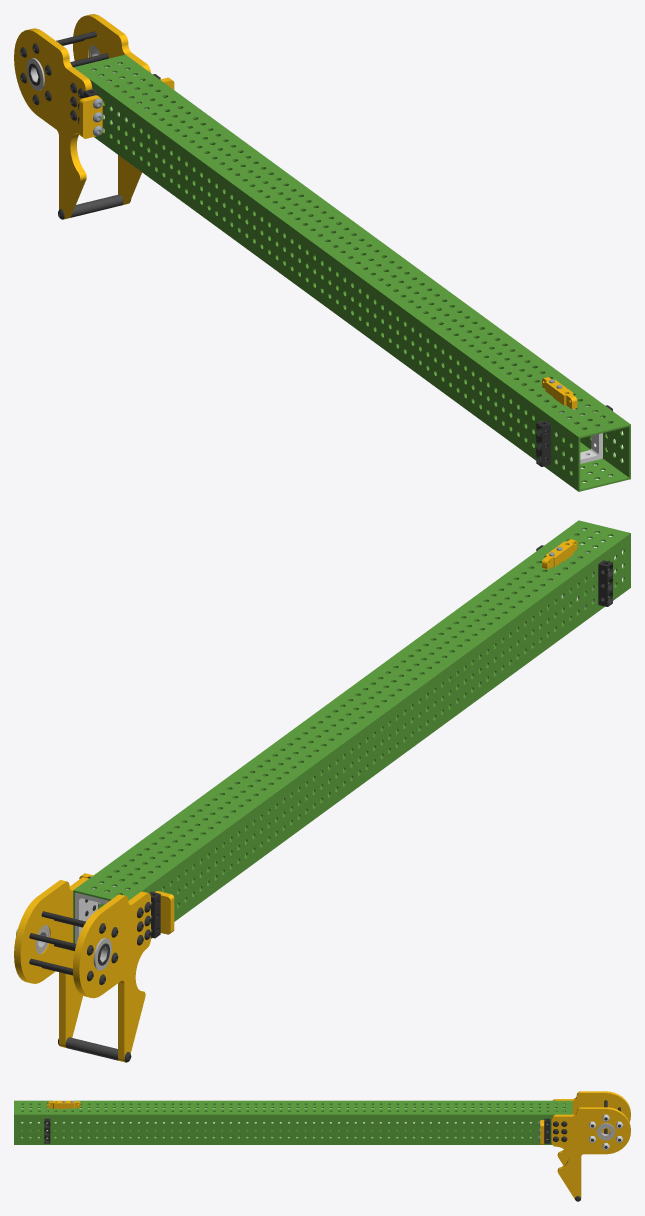
3 renders of one model, top to bottom at view 1: azimuth 30°, elevation 25°; view 2: azimuth 150°, elevation 25°; view 3: azimuth 270°, elevation 25°, orthographic. The views are drawn at different scales.
Parts seen in each view (by area): view 1: Tube 2"x2"x33", O-IntakeA01_0250_6061AL_2_2026 (×2), O-AMA10_0125_6061AL_2_2026, Nut Strip (3/8" Square, 3 Positions, #10-32 Holes, Aligned .; view 2: Tube 2"x2"x33", O-IntakeA01_0250_6061AL_2_2026 (×2); view 3: Tube 2"x2"x33", O-IntakeA01_0250_6061AL_2_2026 (×2), O-AMA07_0373_6061AL_1_2026, 1/2" Rounded Hex (13.75mm) ID Bearing (1" OD, 0.313" WD, Shi, Nut Strip (3/8" Square, 3 Positions, #10-32 Holes, Aligned ..
Part boxes in pixels (bbox=[...]): Tube 2"x2"x33": bbox=[74, 54, 630, 491]; O-IntakeA01_0250_6061AL_2_2026 (×2): bbox=[14, 14, 150, 219]; O-AMA10_0125_6061AL_2_2026: bbox=[79, 95, 102, 138]; Nut Strip (3/8" Square, 3 Positions, #10-32 Holes, Aligned .: bbox=[536, 420, 550, 466]; Tube 2"x2"x33": bbox=[73, 520, 630, 943]; O-IntakeA01_0250_6061AL_2_2026 (×2): bbox=[14, 877, 150, 1062]; Tube 2"x2"x33": bbox=[14, 1100, 572, 1144]; O-IntakeA01_0250_6061AL_2_2026 (×2): bbox=[551, 1091, 630, 1198]; O-AMA07_0373_6061AL_1_2026: bbox=[47, 1100, 80, 1108]; 1/2" Rounded Hex (13.75mm) ID Bearing (1" OD, 0.313" WD, Shi: bbox=[596, 1123, 614, 1140]; Nut Strip (3/8" Square, 3 Positions, #10-32 Holes, Aligned .: bbox=[544, 1118, 550, 1143].
Bounding box in the file's own units: 0.0889 × 0.1558 × 0.9398.
